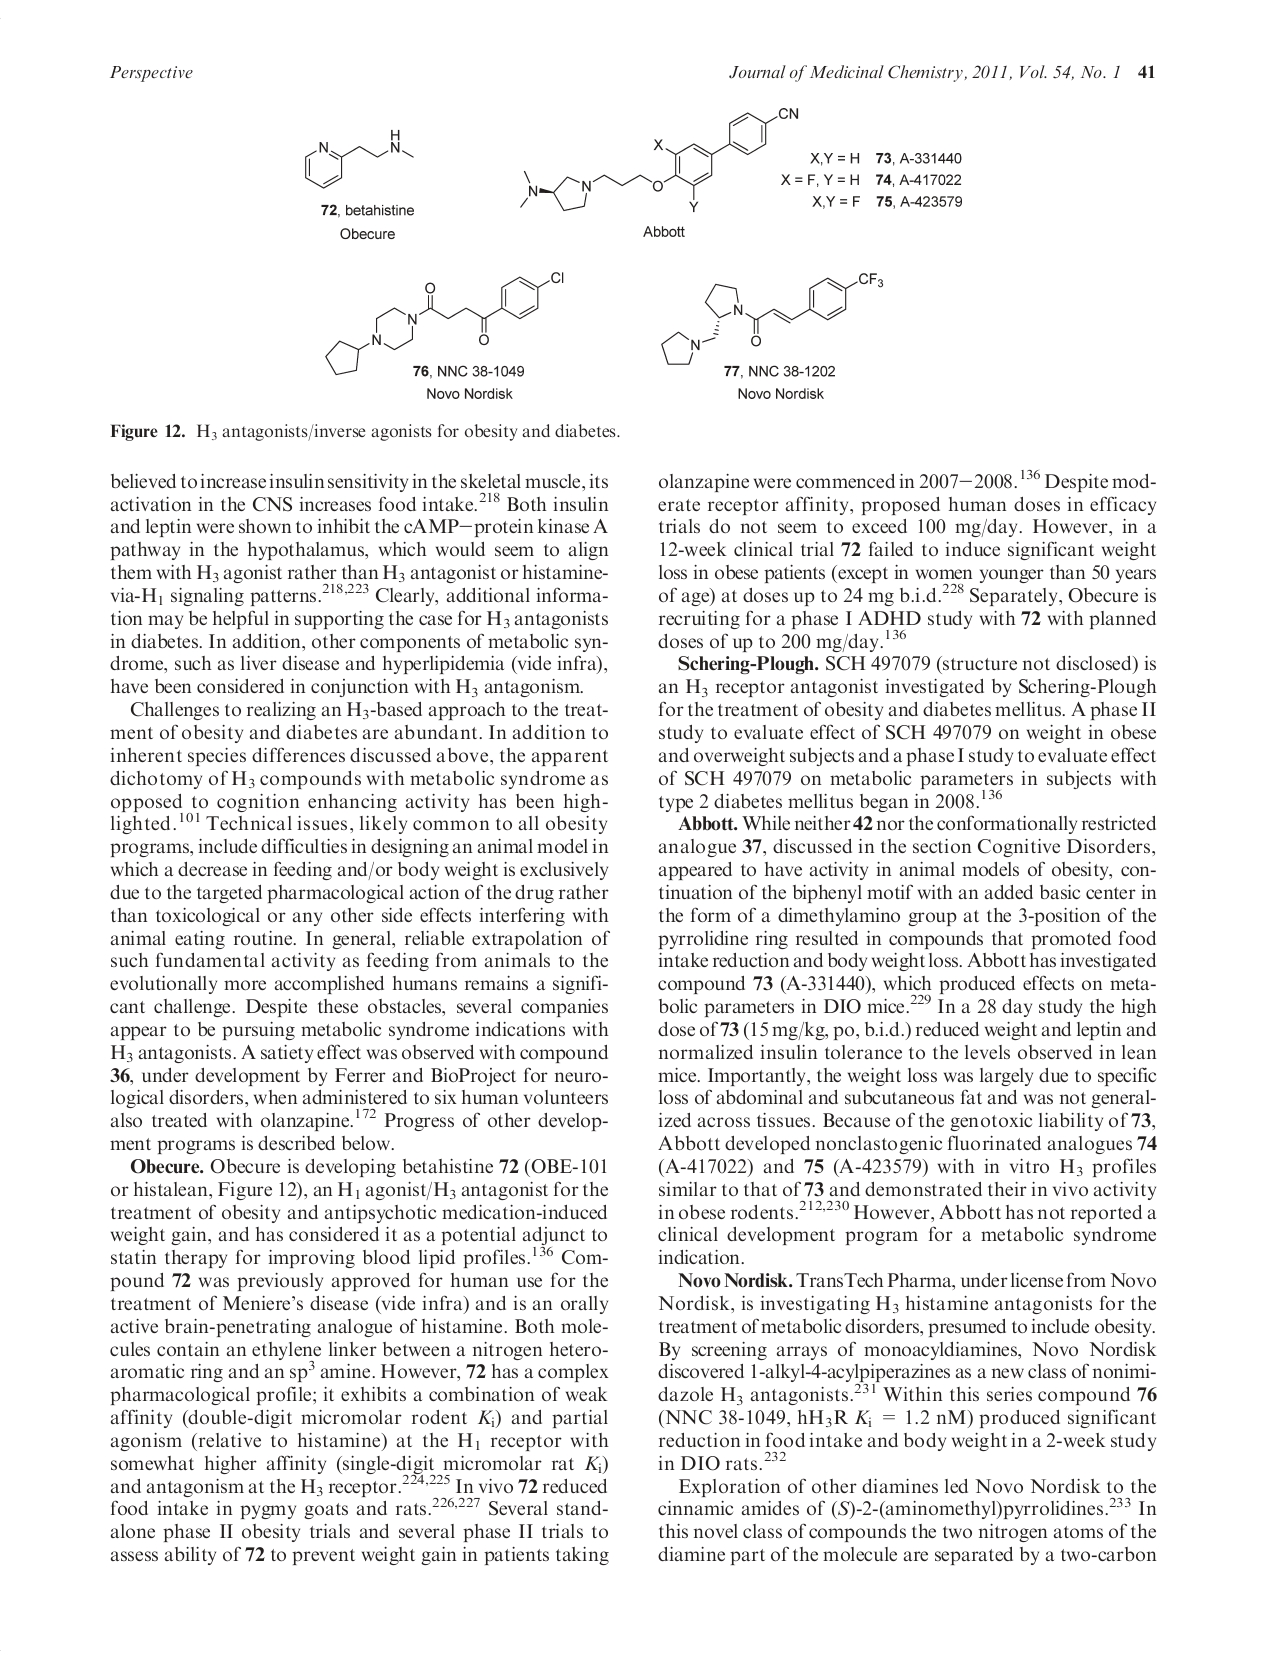exist_molecular: (519, 106, 801, 213), (323, 270, 568, 376), (658, 270, 887, 370), (302, 128, 418, 192)
